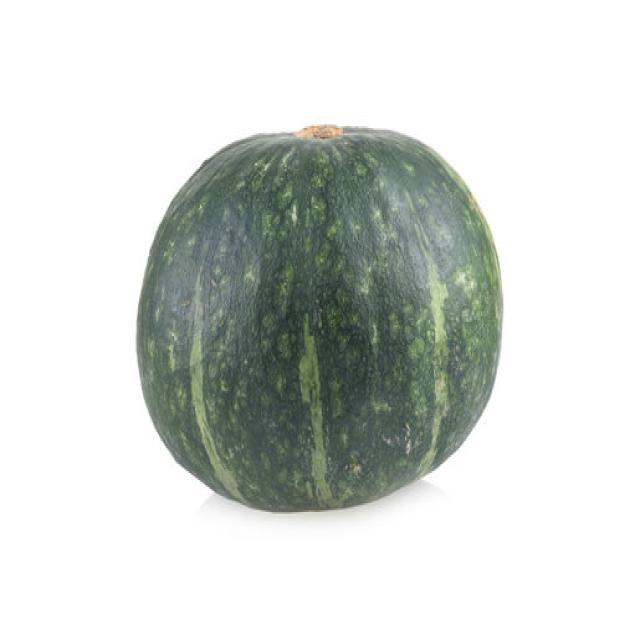Pumpkin: (134, 121, 503, 512)
